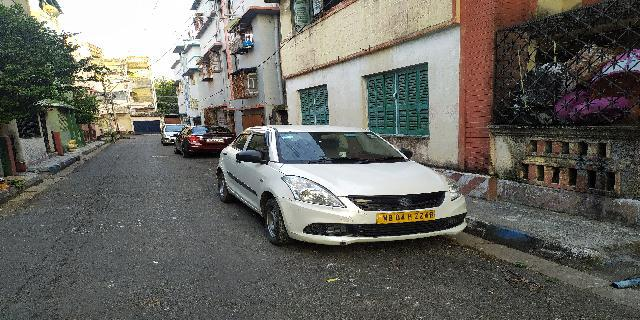Car: (214, 124, 473, 251), (173, 122, 235, 159), (158, 123, 181, 147)
